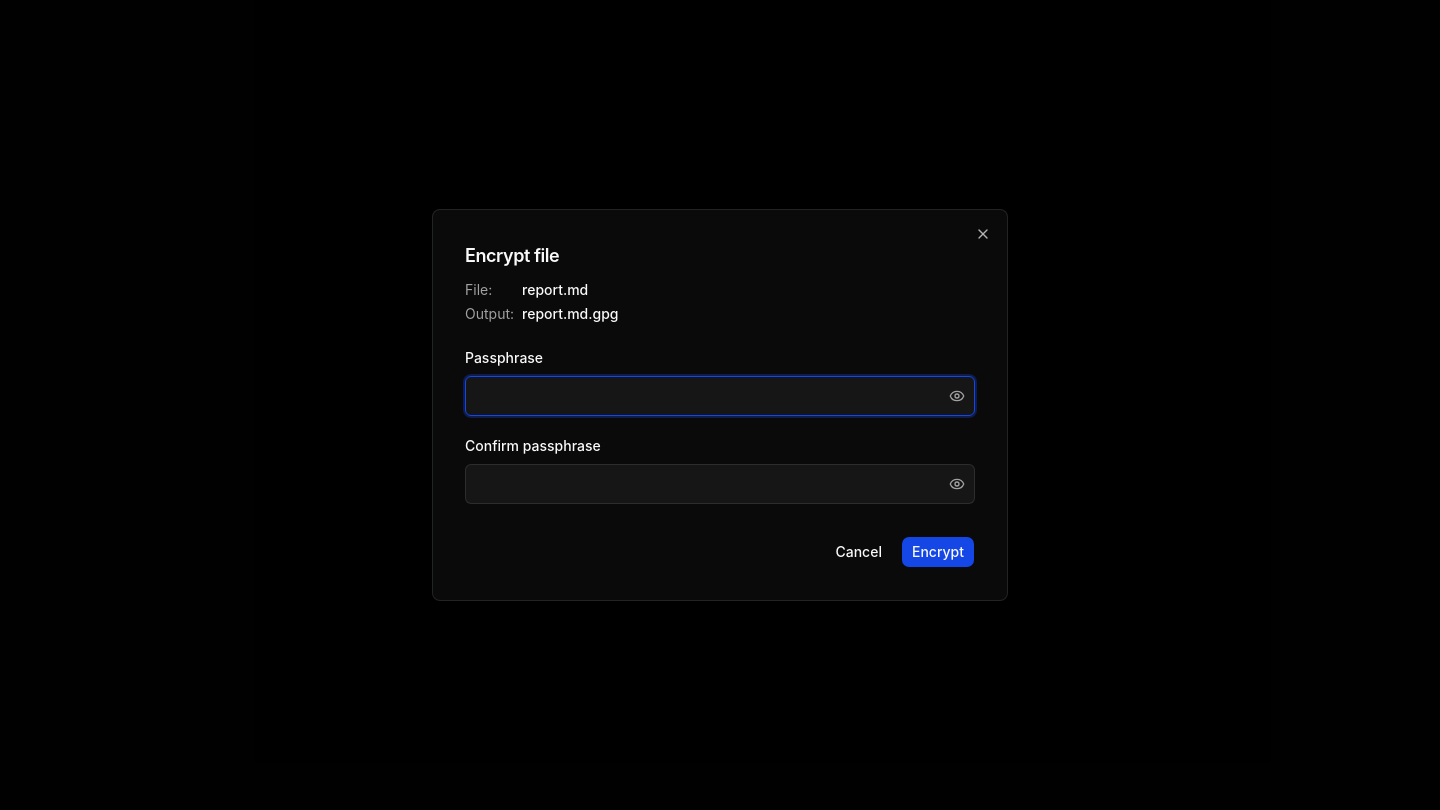
Test: EncryptDialog › shows "must not be empty" error when submitting with blank passphrase
Click the button "Encrypt". click: (938, 552)
box: [901,536,975,568]
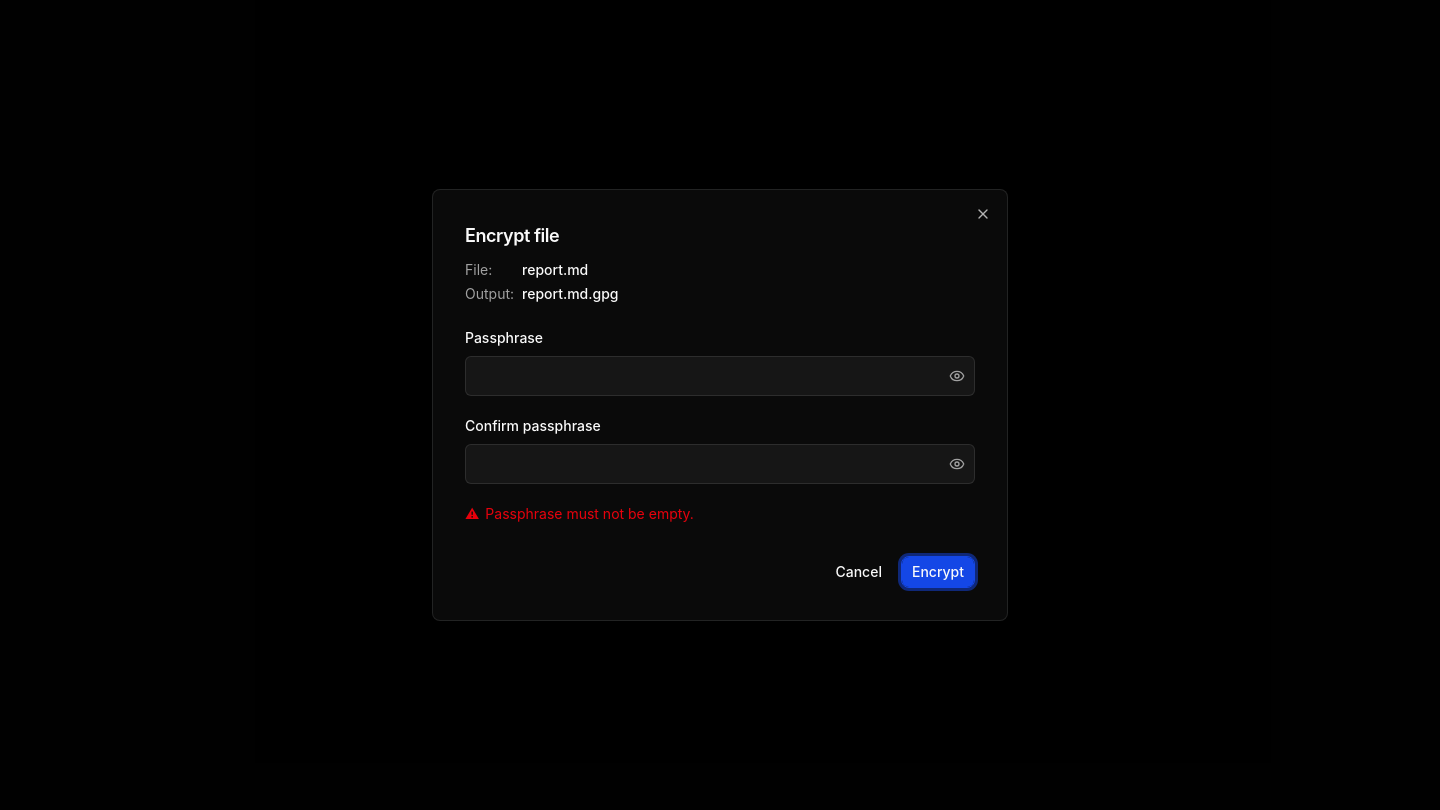
Now the message shows "Passphrase must not be empty.", box [485,505,694,522]
